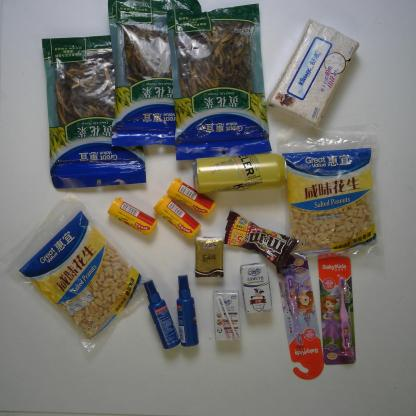Alcohol: (191, 151, 288, 196)
Candy: (152, 194, 202, 240), (166, 177, 217, 218), (106, 197, 158, 237)
Chocolate: (223, 209, 299, 266)
Dried Food: (165, 2, 274, 160), (40, 35, 148, 189), (107, 1, 202, 147)
Dried Fruit: (0, 192, 158, 353), (276, 133, 384, 259)
Milk: (239, 262, 274, 315), (211, 289, 243, 342)
Personal Hygiene: (276, 252, 325, 380), (315, 250, 359, 365), (142, 278, 181, 350), (176, 274, 200, 348)
Tissue: (266, 17, 362, 128), (193, 235, 225, 279)
